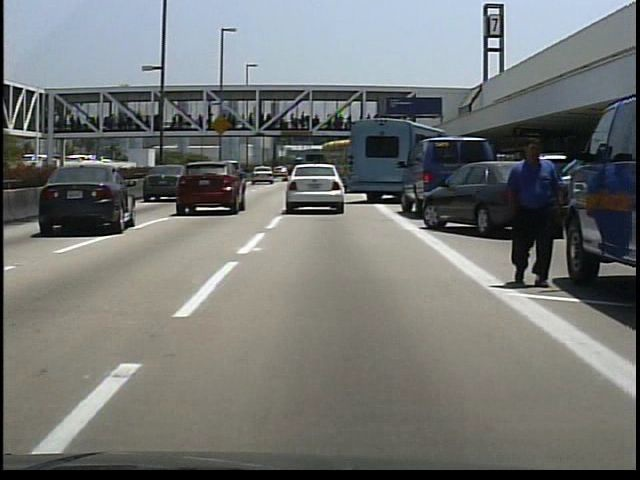person: (497, 135, 568, 288)
